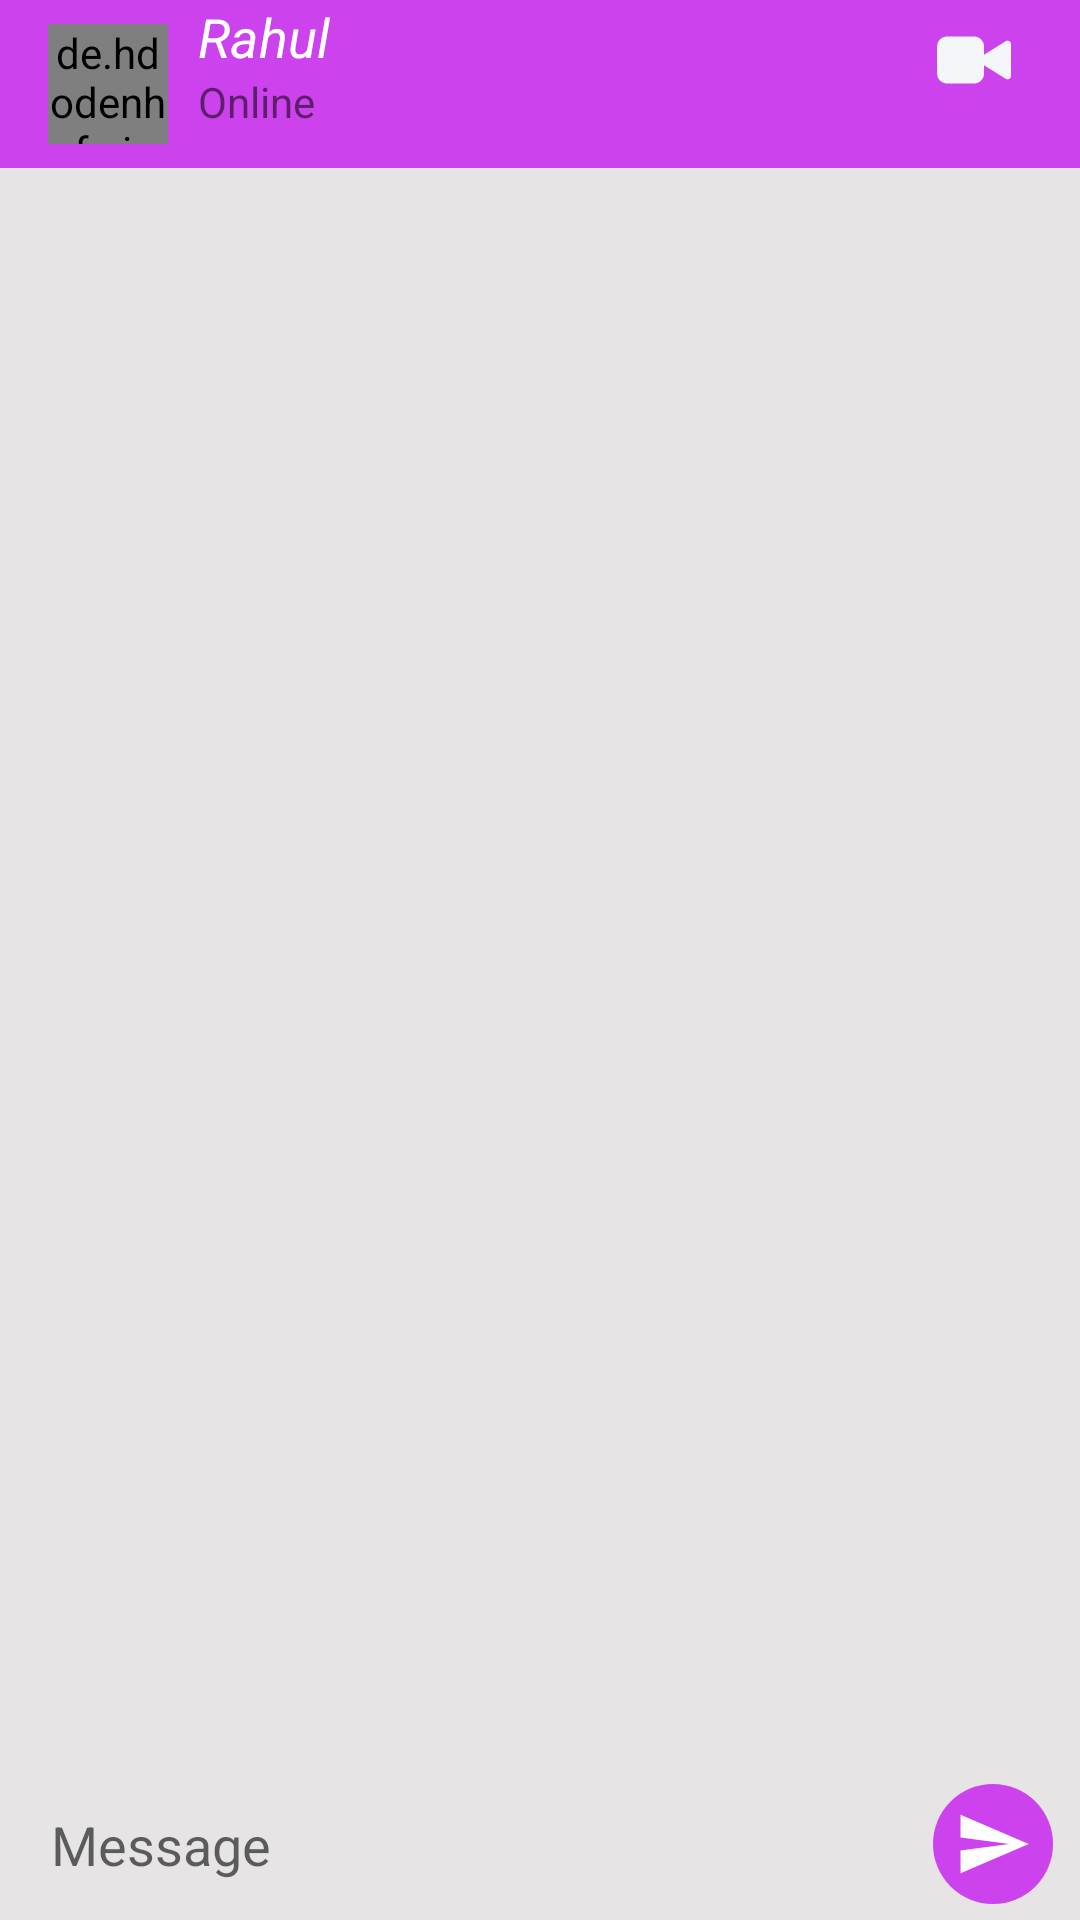

Icons on this 1080w x 1920h Android screen, each with the point to tap as (x,y):
video call: (974,60)
